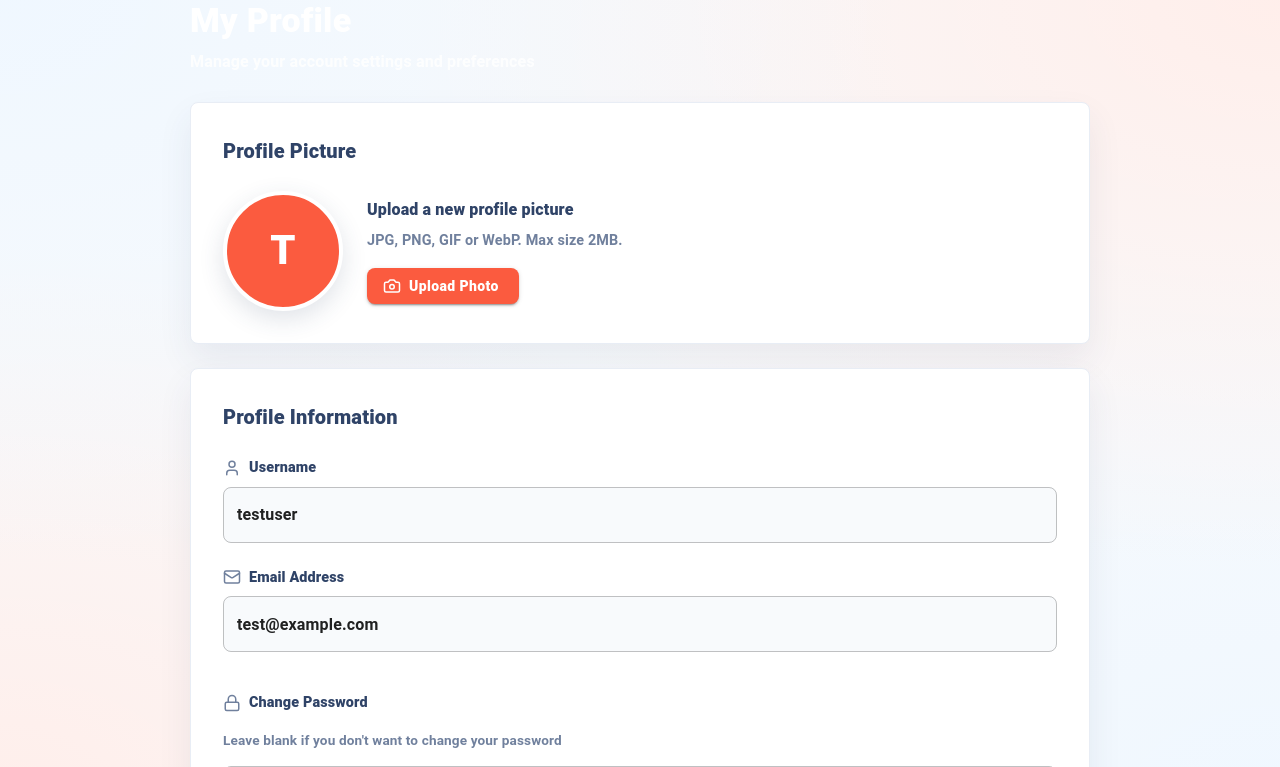
Test: Profile Page › Form Validation › should clear field error when user starts typing
The image size is (1280, 767).
Replace the text in the field with placeholder "Enter your username" below "Username" with "ab": (640, 515) [223,487,1057,543]
(page scrolled)
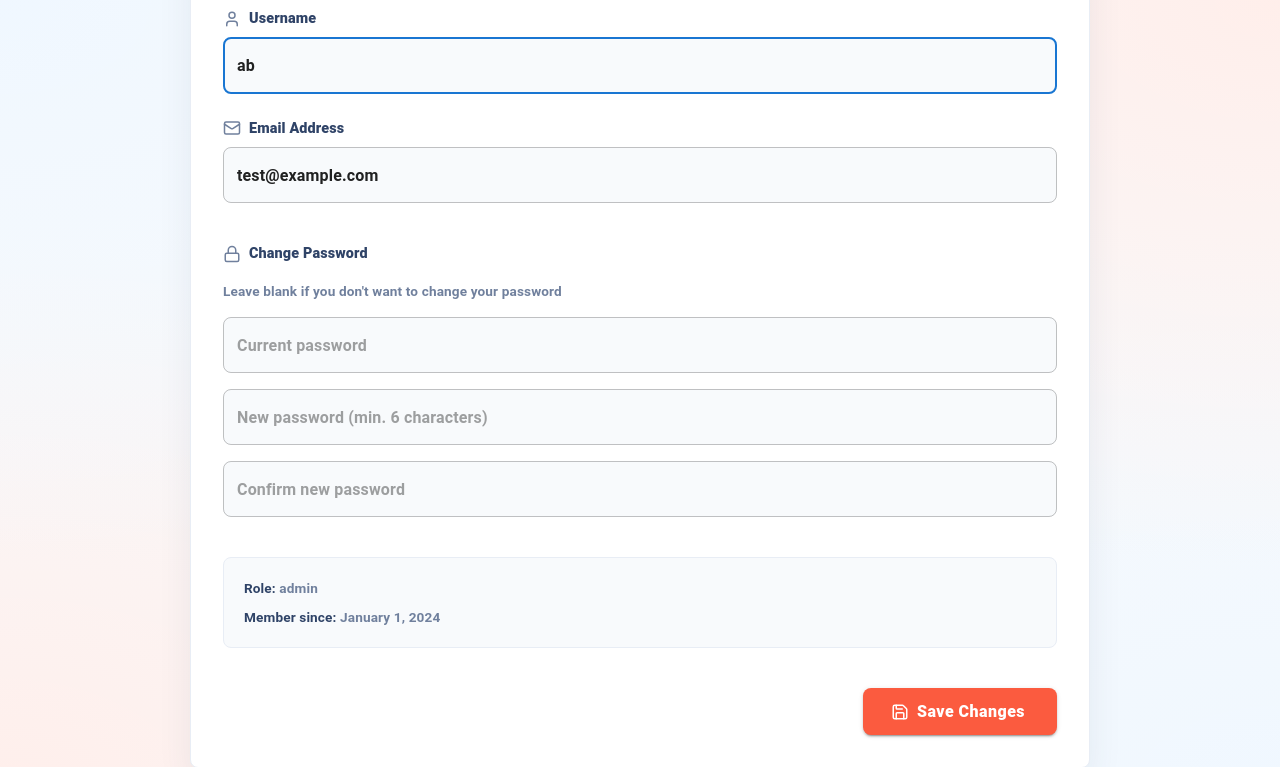
Click the button "Save Changes": (960, 712) [863,688,1057,735]
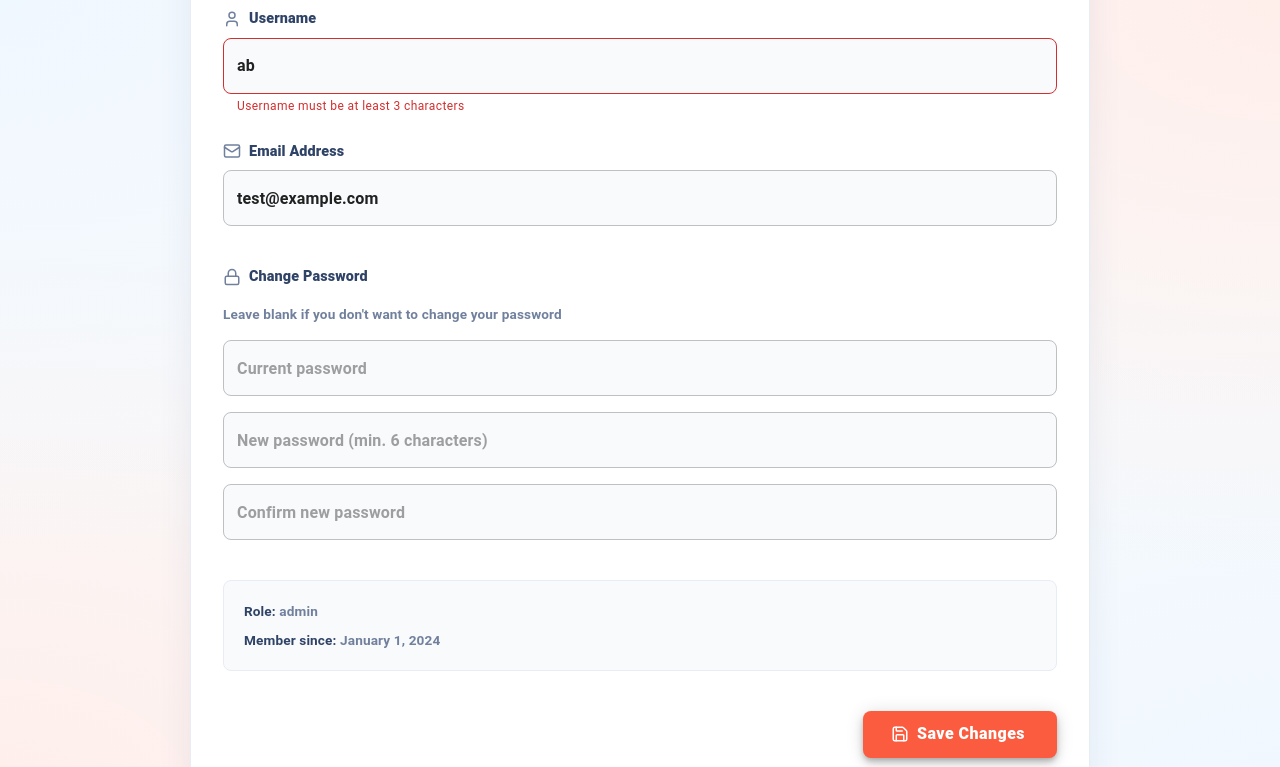
Expected: the text "Username must be at least 3 characters" is shown, [237,99,465,113]
// Start typing again
In the 1st field with placeholder "Enter your username": (640, 66) [223,38,1057,94], type "c"
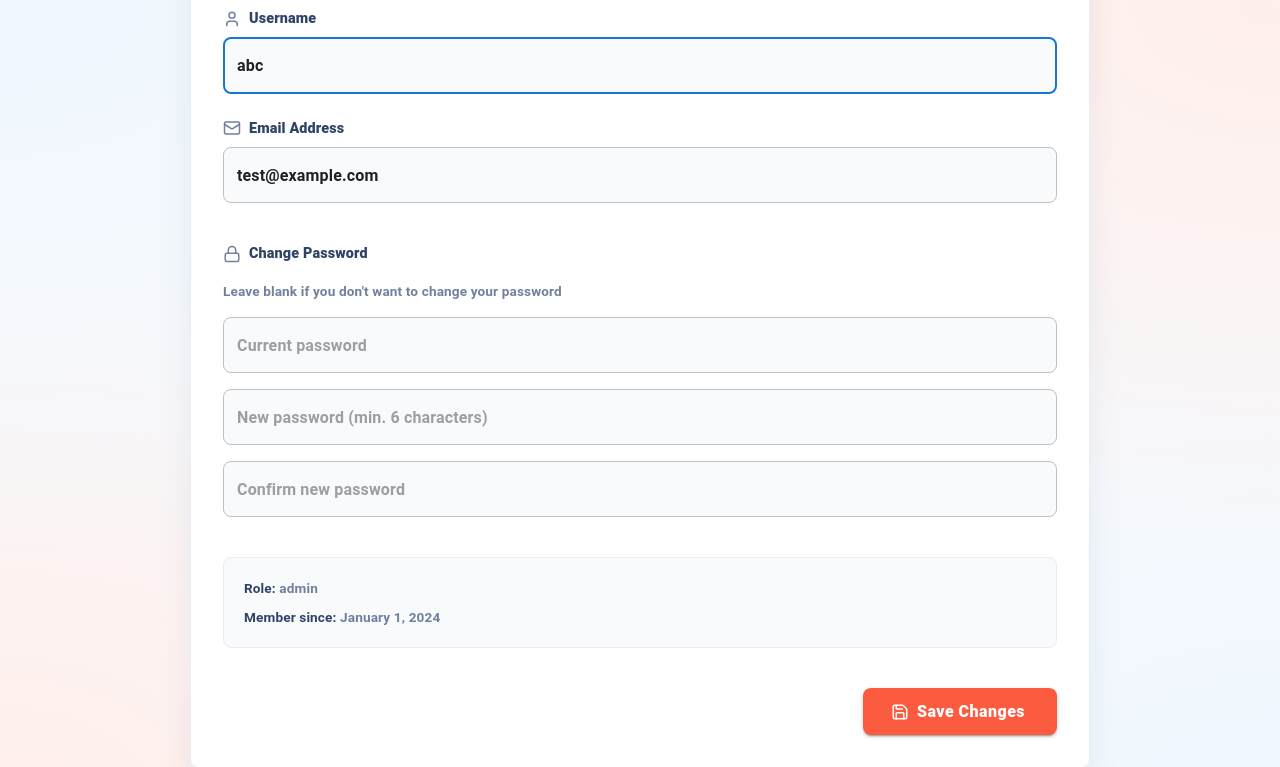
Expected: the text "Username must be at least 3 characters" is gone
